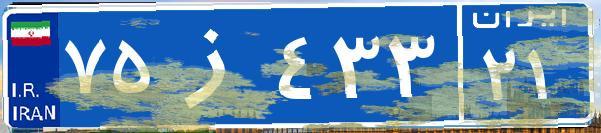1: (525, 38, 570, 115)
2: (475, 38, 525, 113)
3: (385, 28, 445, 110), (330, 28, 385, 110)
4: (273, 28, 330, 110)
5: (110, 28, 158, 105)
7: (57, 26, 110, 107)
ز: (158, 15, 273, 115)
